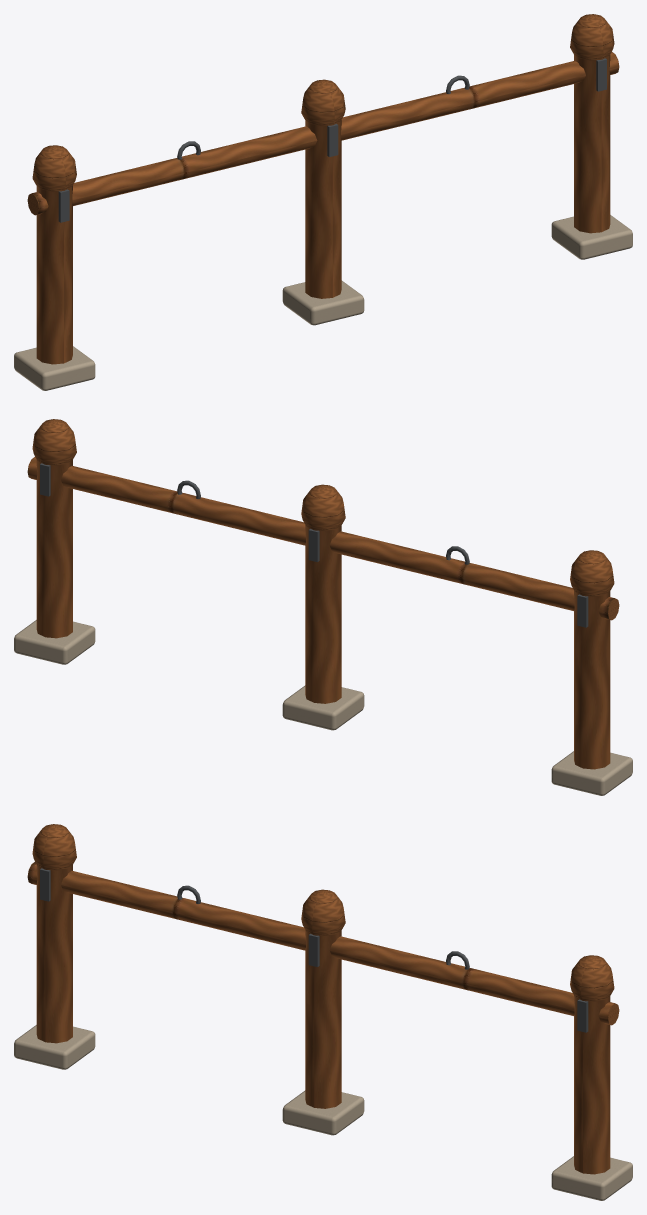
File: hitch.glb
3 views of the same model, one above another, from view 1: azimuth 30°, elevation 25°; view 2: azimuth 150°, elevation 25°; view 3: azimuth 330°, elevation 25° (orthographic).
Parts seen in each view (by area): view 1: hitching-rail; view 2: hitching-rail; view 3: hitching-rail.
Boxes of the visible parts, bbox=[...] form: hitching-rail: bbox=[14, 14, 632, 390]; hitching-rail: bbox=[14, 419, 632, 795]; hitching-rail: bbox=[14, 824, 632, 1200].
Size of the model in its own units: 3.3 by 1.22 by 0.3001.
Materials: 3 (2 with a texture image).
